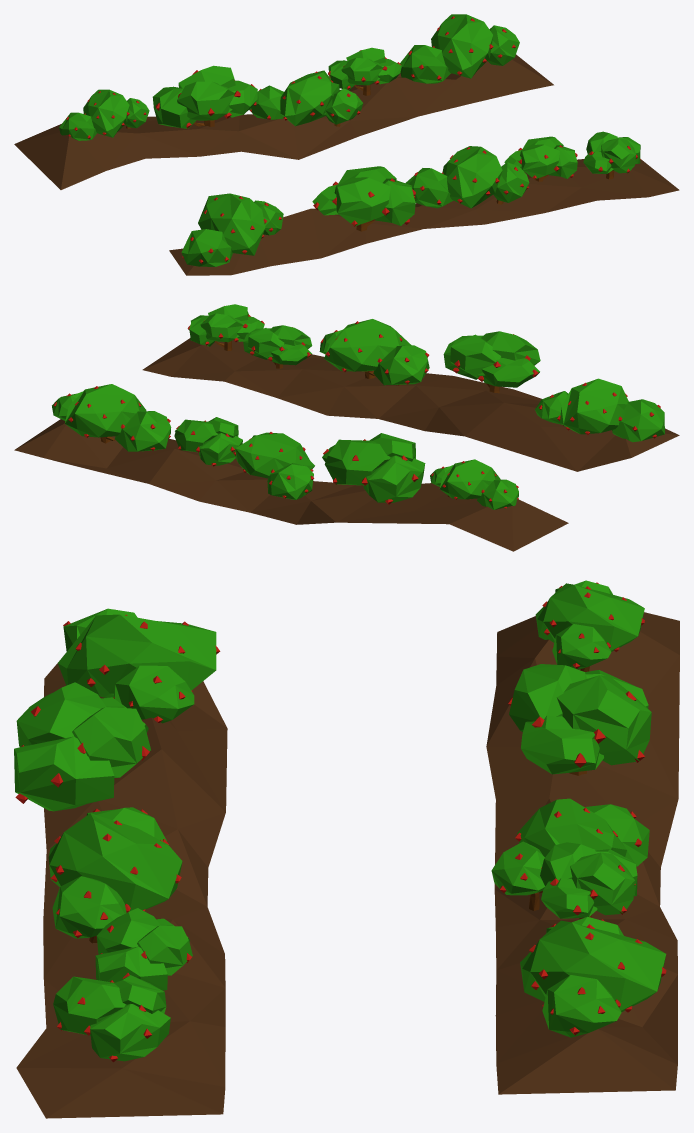
The model's file is bush.FBX.
3 renders of one model, top to bottom at view 1: azimuth 30°, elevation 25°; view 2: azimuth 150°, elevation 25°; view 3: azimuth 270°, elevation 25°, orthographic. The views are drawn at different scales.
Visible parts, largest first — view 1: Object050, Object051, 05tree061, 05tree060, 05tree059, 04tree013, 04tree016, 05tree058, 05tree057, 04tree014, 04tree015, 04tree017; view 2: Object051, Object050, 05tree060, 05tree061, 04tree013, 05tree059, 04tree016, 05tree058, 05tree057, 04tree014, 04tree017, 04tree015; view 3: Object050, Object051, 04tree016, 05tree060, 05tree059, 04tree013, 05tree061, 05tree058, 04tree017, 05tree057, 04tree014, 04tree015.
Boxes of the visible parts, <box> form: Object050: <box>14,54,553,189</box>; Object051: <box>169,159,679,275</box>; 05tree061: <box>400,14,519,83</box>; 05tree060: <box>181,193,283,266</box>; 05tree059: <box>405,146,529,208</box>; 04tree013: <box>152,65,257,128</box>; 04tree016: <box>312,166,415,231</box>; 05tree058: <box>249,70,363,126</box>; 05tree057: <box>59,89,149,140</box>; 04tree014: <box>328,47,401,95</box>; 04tree015: <box>504,136,577,181</box>; 04tree017: <box>583,131,640,179</box>; Object051: <box>142,338,679,471</box>; Object050: <box>14,419,568,551</box>; 05tree060: <box>535,378,664,442</box>; 05tree061: <box>52,384,171,451</box>; 04tree013: <box>322,433,425,504</box>; 05tree059: <box>319,319,429,385</box>; 04tree016: <box>443,331,540,393</box>; 05tree058: <box>233,432,314,499</box>; 05tree057: <box>430,459,518,509</box>; 04tree014: <box>174,417,242,466</box>; 04tree017: <box>187,304,264,350</box>; 04tree015: <box>243,325,312,368</box>; Object050: <box>486,612,679,1094</box>; Object051: <box>16,663,227,1118</box>; 04tree016: <box>14,682,150,811</box>; 05tree060: <box>58,608,220,723</box>; 05tree059: <box>48,807,182,943</box>; 04tree013: <box>508,664,651,775</box>; 05tree061: <box>520,916,666,1037</box>; 05tree058: <box>491,798,649,910</box>; 04tree017: <box>53,975,170,1062</box>; 05tree057: <box>535,580,644,671</box>; 04tree014: <box>540,842,637,919</box>; 04tree015: <box>95,908,192,990</box>.
Size of the model in its own units: 28.51 by 4.94 by 18.45.
